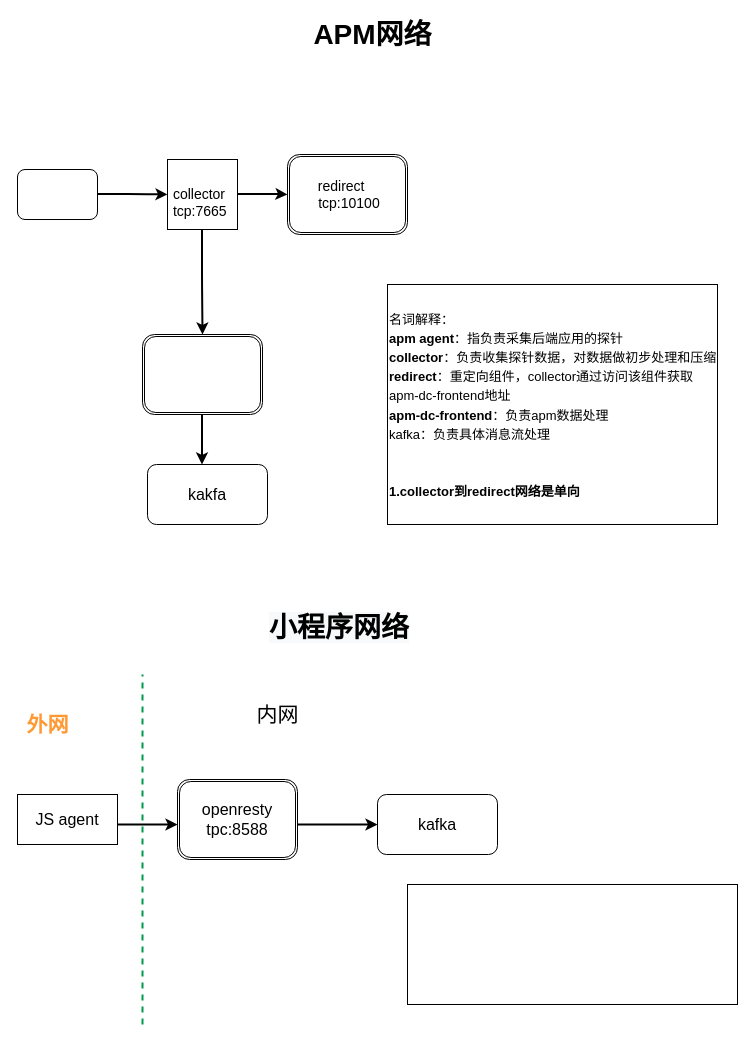
Image size: 755x1043. Some labels were removed from this diagram. The shapes that lost their labels are listed below. From the top down, each one's centre as x and y in pixels, then its label:
At point (57, 194): "Apm agent".
At point (202, 374): "apm-dc-frontend tcp:10400".
At point (572, 944): "名词解释： JS agent ：负责采集小程序数据探针 openrety ：负责处理JS探针上传数据以及负载均衡".
